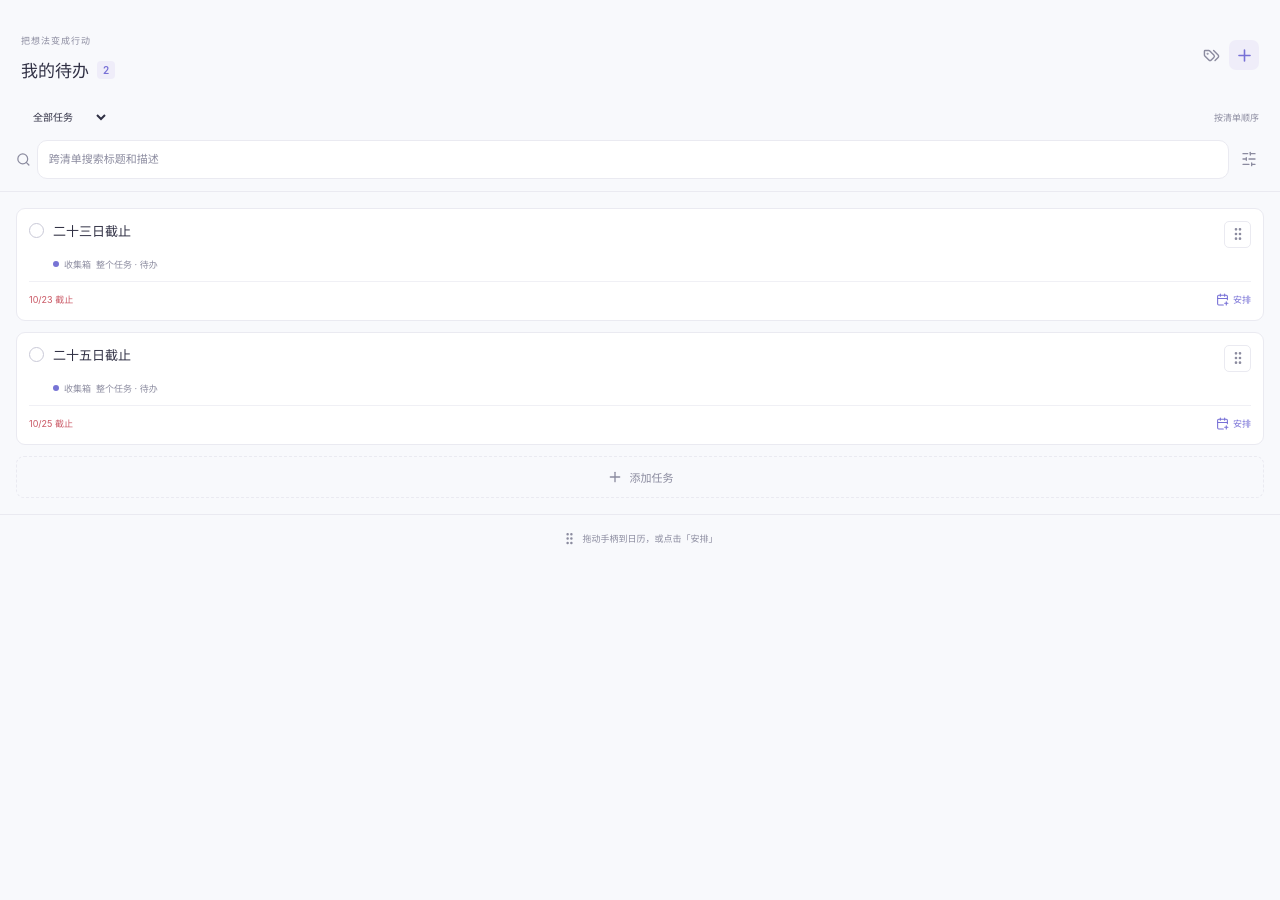
Test: 任务子任务和标签交互 › 截止筛选非法日期保留草稿并提示，不静默筛空；修正合法日期后恢复过滤
The image size is (1280, 900).
Click the button named "搜索筛选".
click(1249, 159)  # box [1234,144,1264,174]
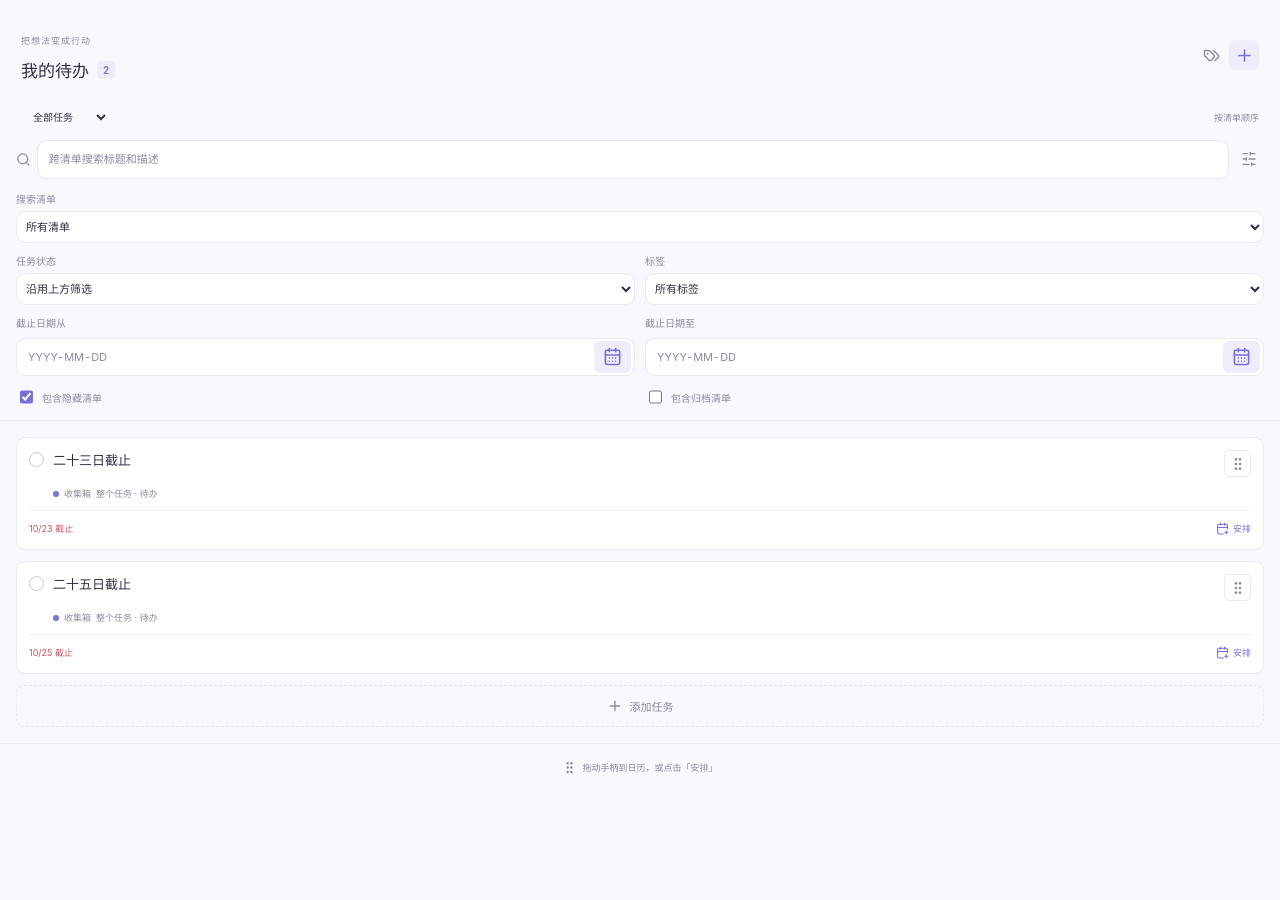
Type "2026-2-1" into the field labelled "截止日期从".
click(326, 357); type("2026-2-1")  # box [16,338,635,376]
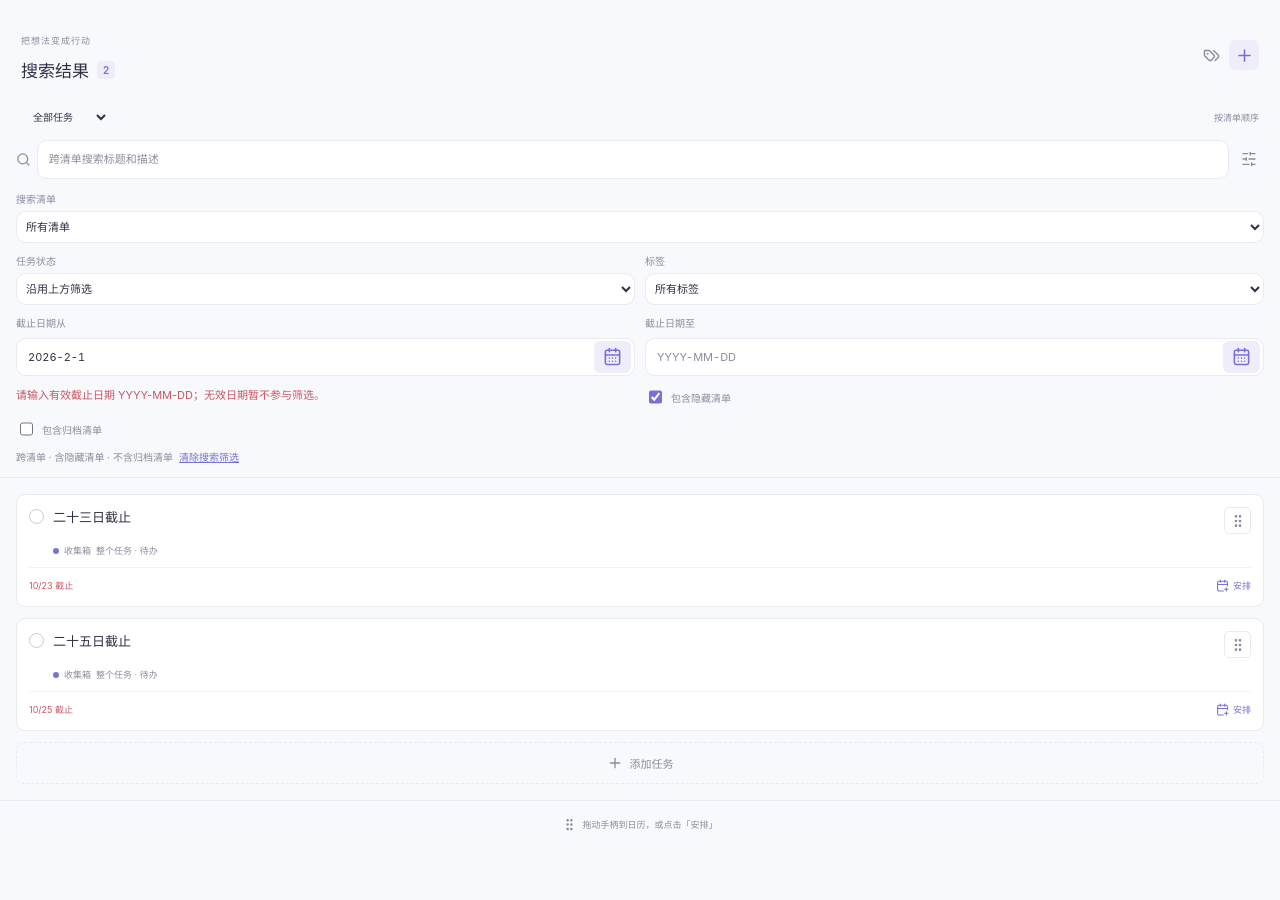
Check: the message "请输入有效截止日期 YYYY-MM-DD；无效日期暂不参与筛选。" is shown, box [16,388,325,402]
Replace the text in the field labelled "截止日期从" with "2026-10-24" at (326, 357), box [16,338,635,376]
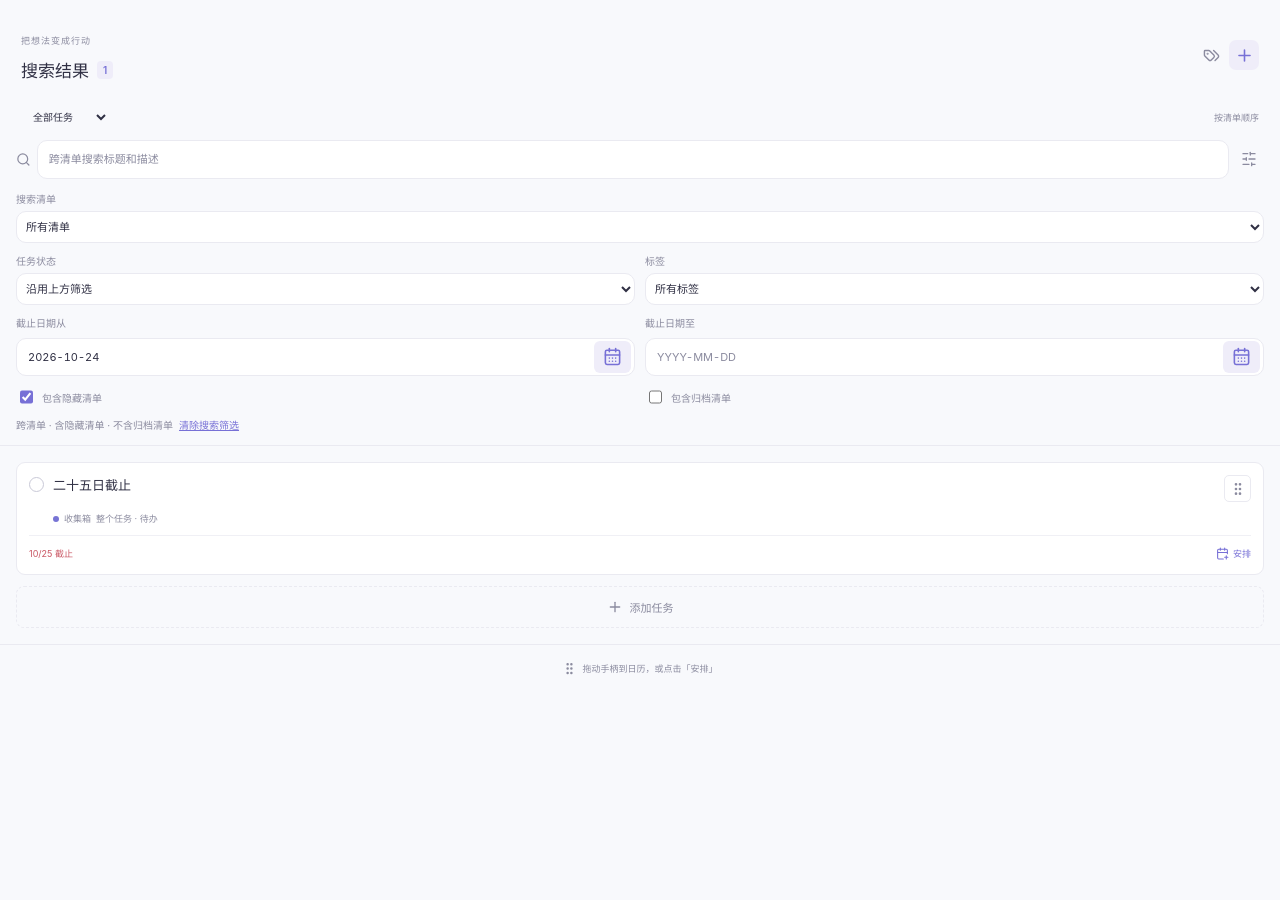
Check: the button "二十五日截止" is shown, box [53,475,1215,496]
Check: the message "请输入有效截止日期 YYYY-MM-DD；无效日期暂不参与筛选。" is gone
Type "2026-02-30" into the field labelled "截止日期至".
click(954, 357); type("2026-02-30")  # box [645,338,1264,376]
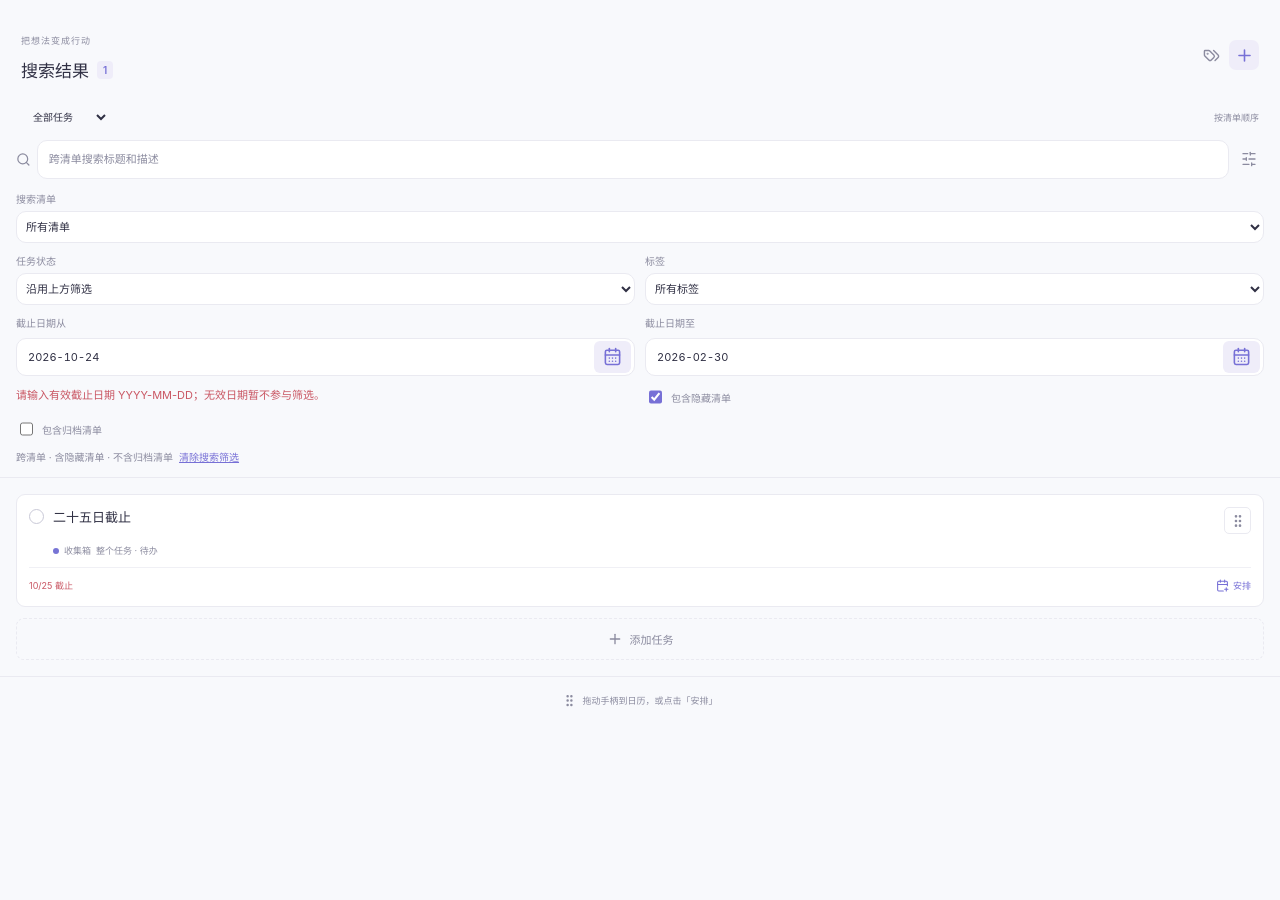
Check: the message "请输入有效截止日期 YYYY-MM-DD；无效日期暂不参与筛选。" is shown, box [16,388,325,402]
Replace the text in the field labelled "截止日期至" with "2026-10-25" at (954, 357), box [645,338,1264,376]
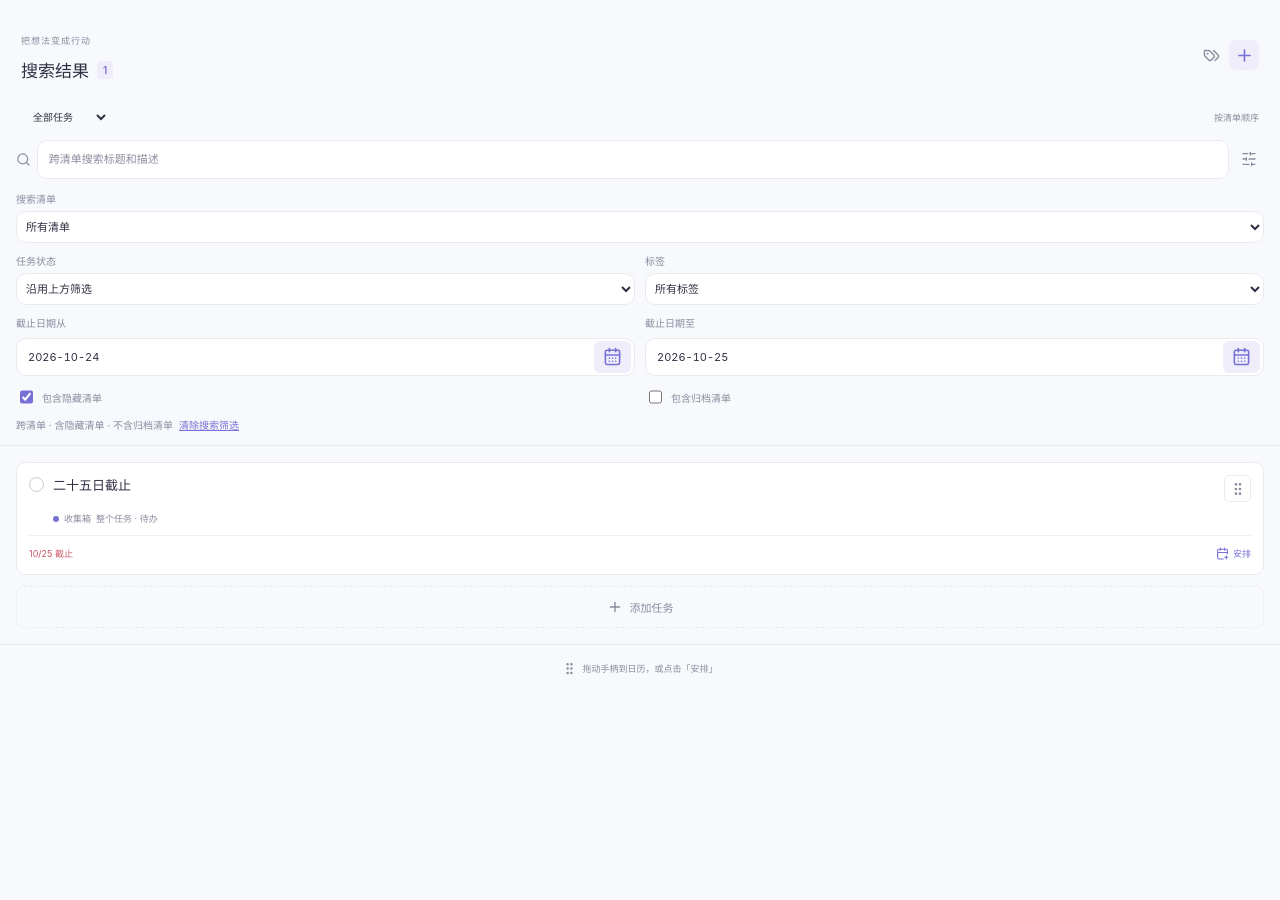
Check: the message "请输入有效截止日期 YYYY-MM-DD；无效日期暂不参与筛选。" is gone
